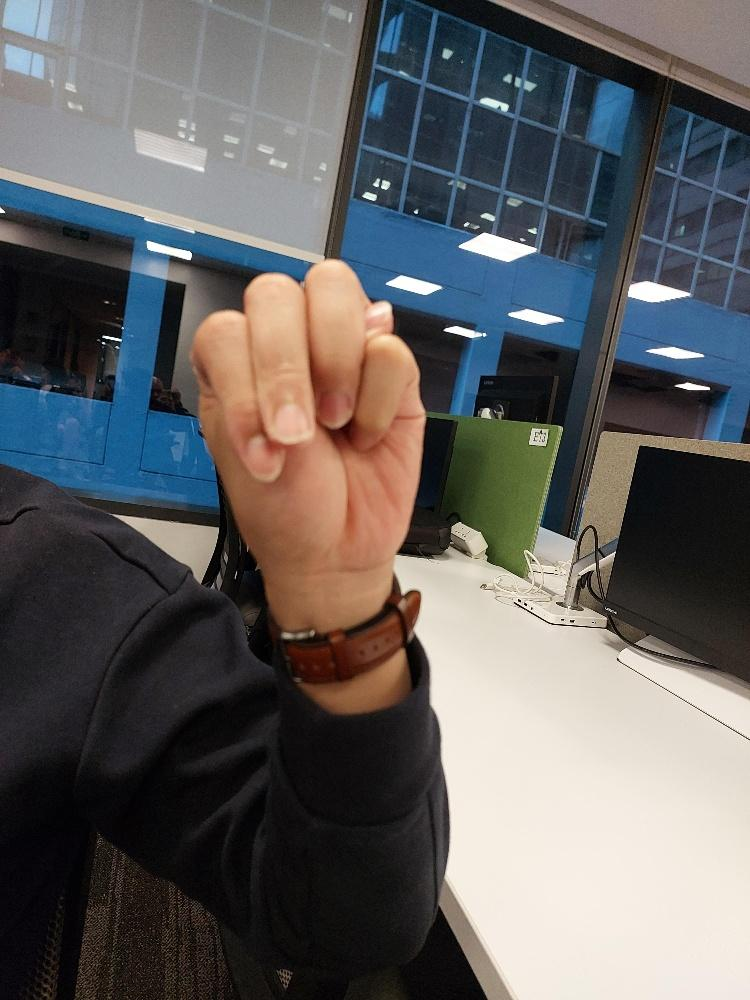m: (187, 256, 425, 553)
